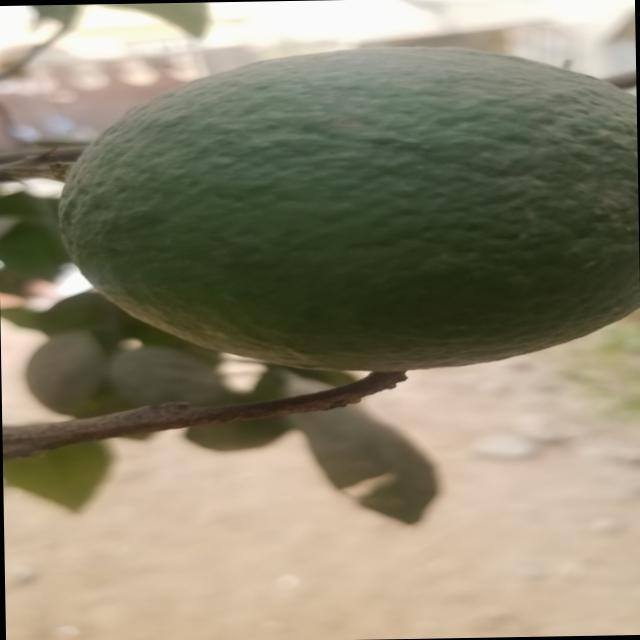agrume: (63, 40, 640, 378)
